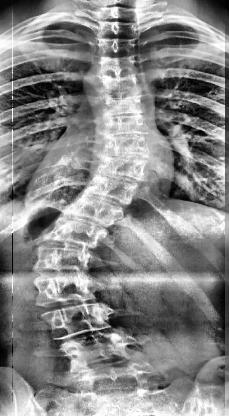Vertebrae: (70, 360, 156, 398), (56, 332, 138, 368), (41, 304, 117, 340), (31, 272, 101, 304), (41, 218, 107, 250), (62, 196, 126, 228), (32, 244, 96, 274), (84, 174, 144, 204), (91, 156, 149, 184), (94, 133, 150, 159), (96, 112, 152, 136), (99, 92, 148, 114), (94, 56, 142, 78), (97, 19, 141, 39), (96, 36, 138, 56), (98, 76, 142, 94), (96, 6, 140, 23)
